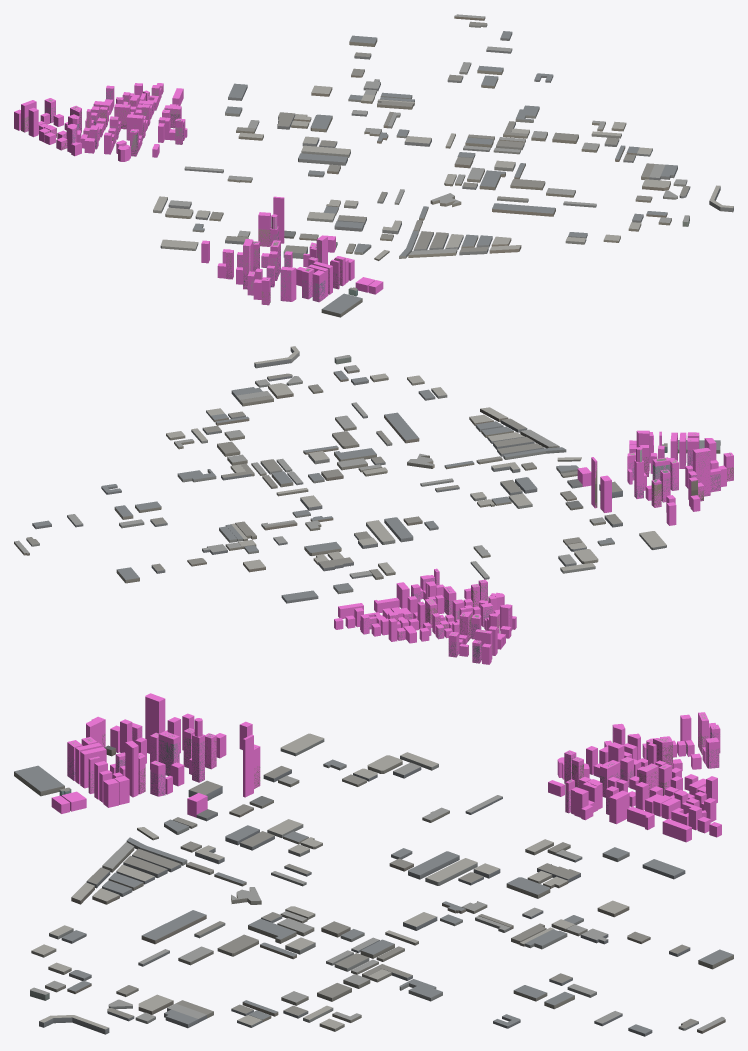
The model's file is bld_18_15.fbx.
3 views of the same model, one above another, from view 1: azimuth 30°, elevation 25°; view 2: azimuth 150°, elevation 25°; view 3: azimuth 270°, elevation 25° (orthographic). The views are drawn at different scales.
Visible parts, largest first — view 1: bld_18_15_LOD0, bld_18_15_COL; view 2: bld_18_15_LOD0, bld_18_15_COL; view 3: bld_18_15_LOD0, bld_18_15_COL.
Part boxes in pixels (box(x1,y1,x2,y2)): bld_18_15_LOD0: box(21, 14, 733, 317); bld_18_15_COL: box(14, 83, 383, 305); bld_18_15_LOD0: box(14, 346, 733, 663); bld_18_15_COL: box(334, 430, 733, 664); bld_18_15_LOD0: box(14, 714, 733, 1036); bld_18_15_COL: box(51, 693, 721, 842).
Size of what is drawn, in the model's own units: 2091 by 196 by 2119.
